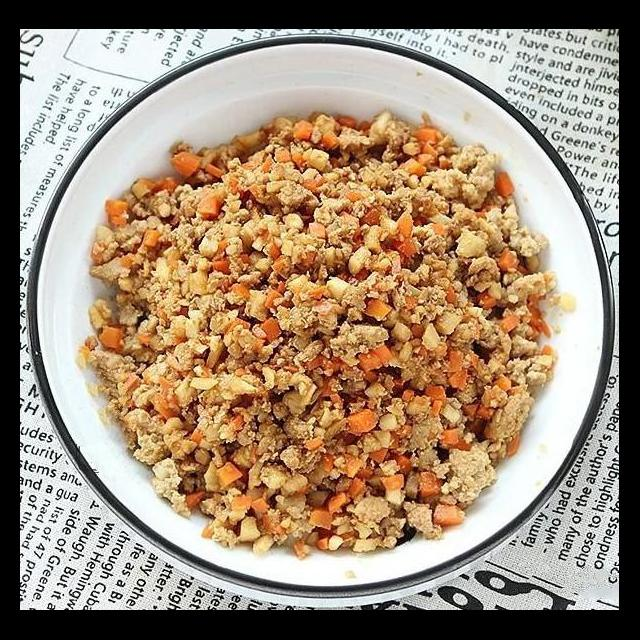thit bam: (70, 106, 568, 564)
